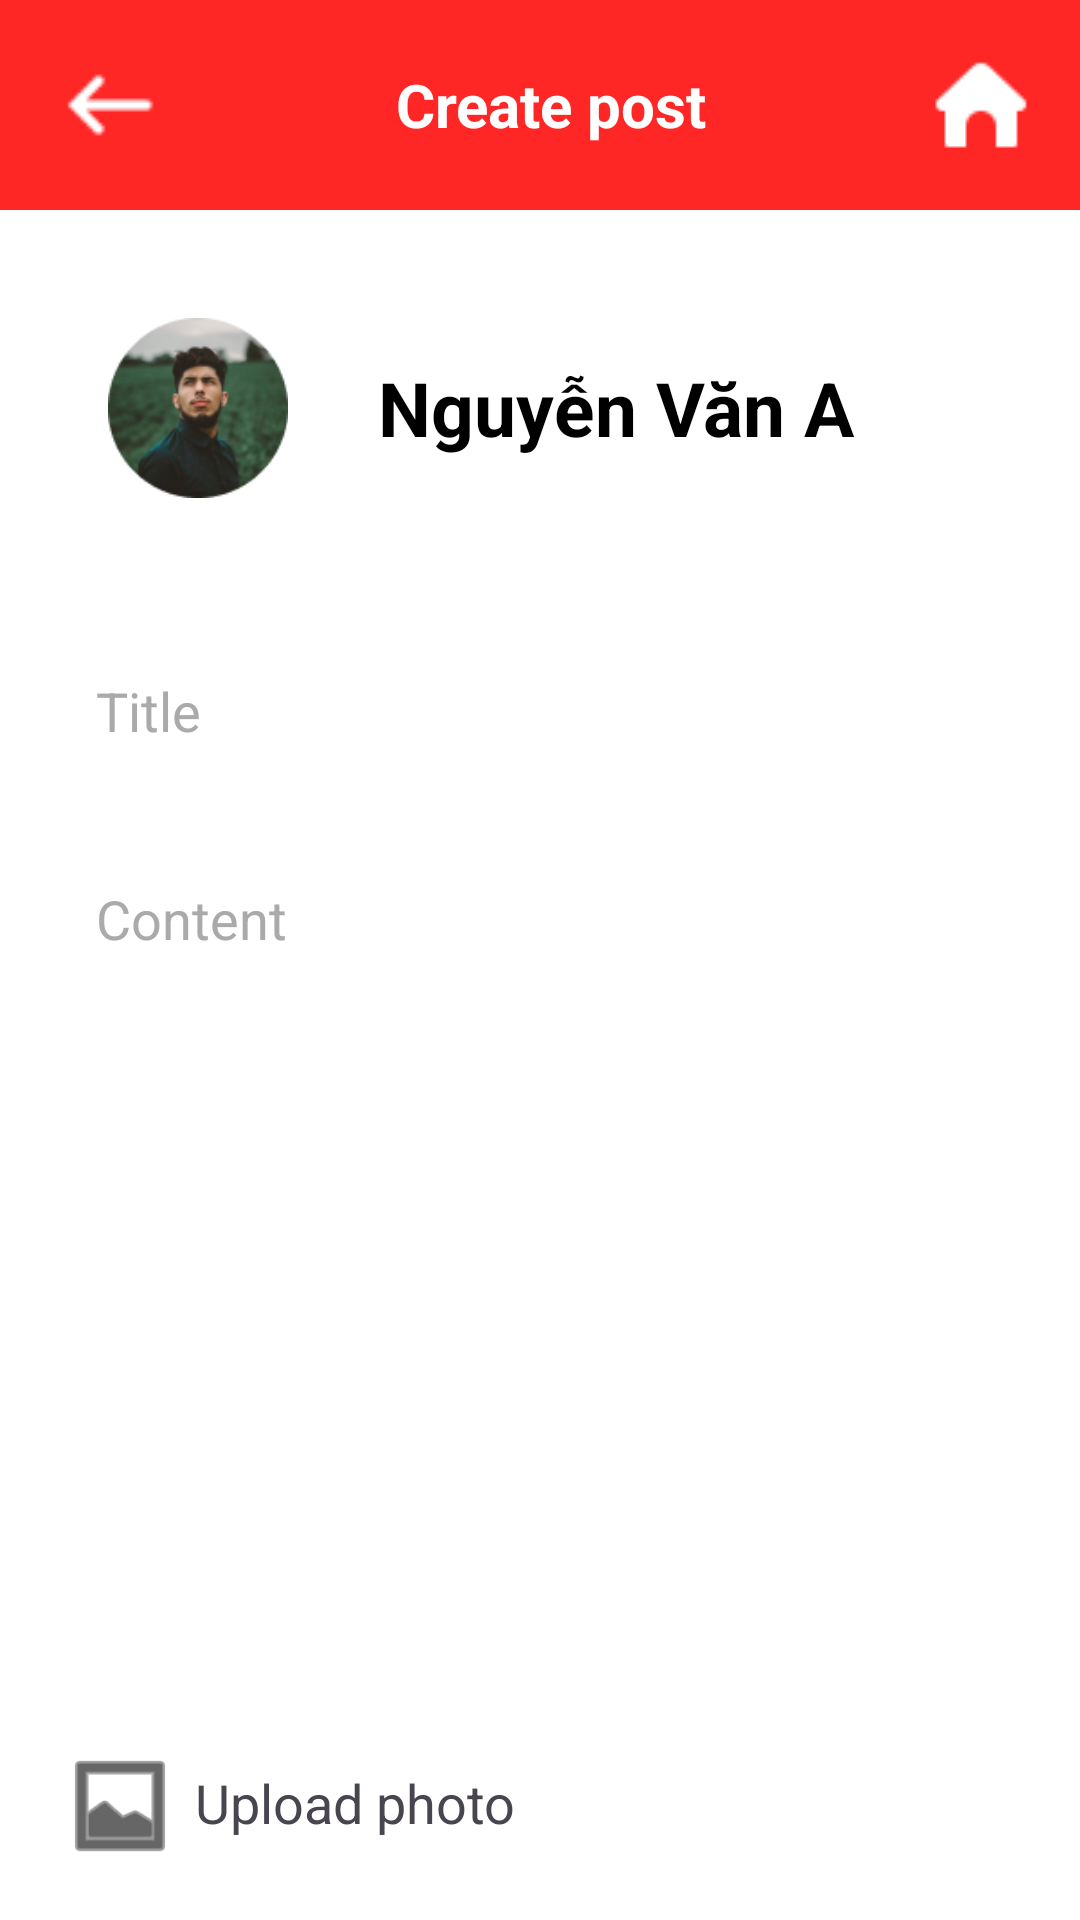

Icons on this 1080*1920 Android screen, each with the point to tap as (x=x, y=y):
backward: (x=110, y=105)
gallery: (x=120, y=1806)
home: (x=981, y=105)
